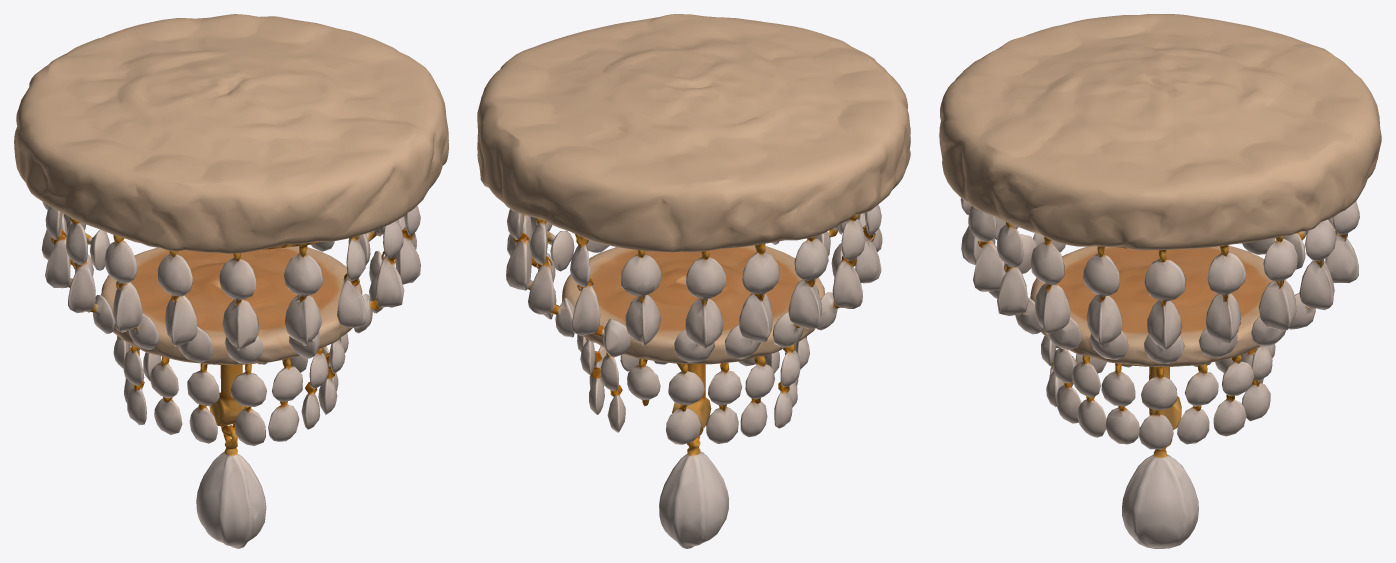
Rendered from chandelier.glb.
3 views of the same model, side by side, from view 1: azimuth 30°, elevation 25°; view 2: azimuth 150°, elevation 25°; view 3: azimuth 270°, elevation 25° (orthographic).
Visible parts, largest first — view 1: tripo_node_f959d2cb-3b8d-444b-8069-63ac84e2a5ca; view 2: tripo_node_f959d2cb-3b8d-444b-8069-63ac84e2a5ca; view 3: tripo_node_f959d2cb-3b8d-444b-8069-63ac84e2a5ca.
Part boxes in pixels (bbox=[...]): tripo_node_f959d2cb-3b8d-444b-8069-63ac84e2a5ca: bbox=[14, 14, 448, 548]; tripo_node_f959d2cb-3b8d-444b-8069-63ac84e2a5ca: bbox=[477, 14, 910, 548]; tripo_node_f959d2cb-3b8d-444b-8069-63ac84e2a5ca: bbox=[939, 14, 1381, 548].
Bounding box in the file's own units: 0.8562 × 0.9797 × 0.8454.
Materials: 1 (1 with a texture image).
